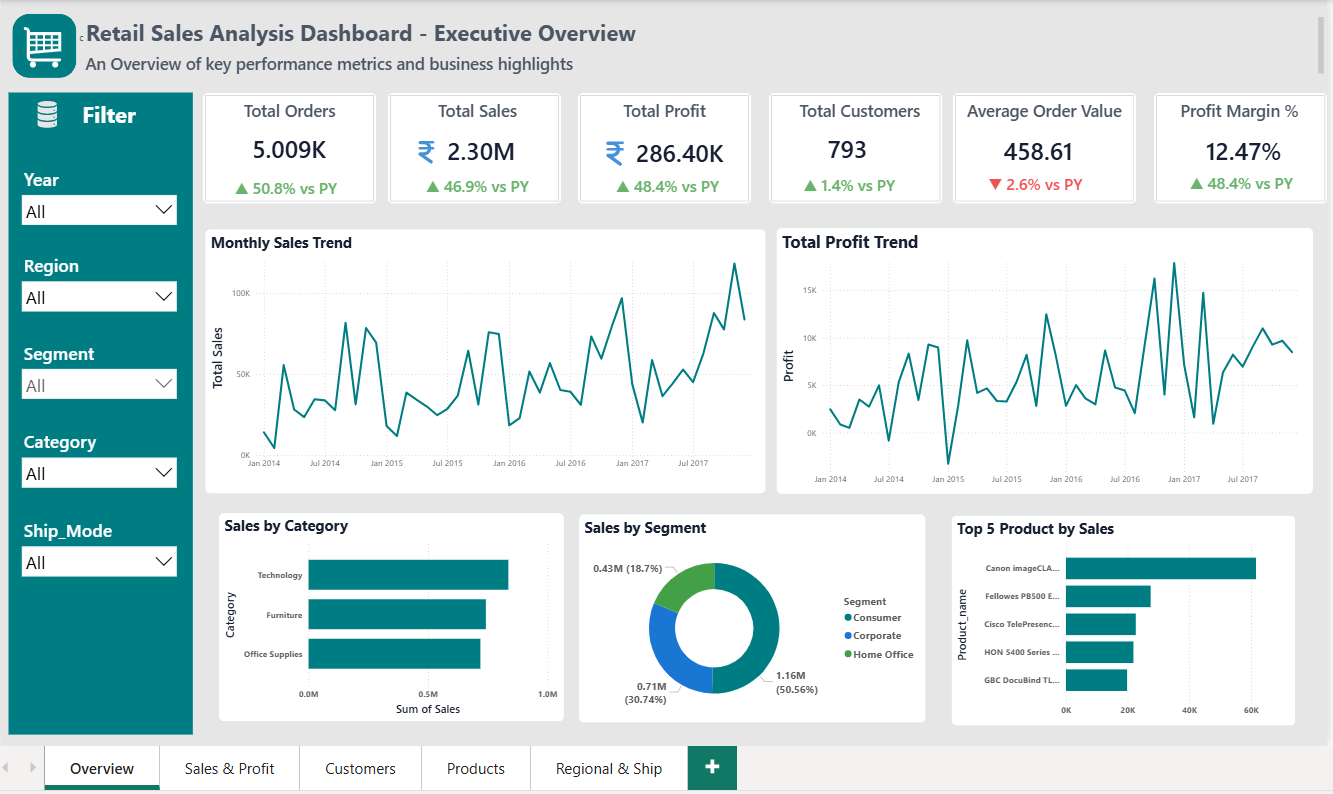

Layout of this report page (visuals, bound fields, positions):
{"tool":"powerbi","page":{"name":"Overview","canvas":[1920,1080],"ordinal":0},"visuals":[{"type":"shape","box":[10.1,133.4,266.8,929.9],"z":0},{"type":"textbox","box":[109.2,20.2,1811.3,93],"z":1000},{"type":"slicer","fields":{"Values":["Calendar.Year"]},"box":[20.2,234.5,244.6,109.2],"z":2000},{"type":"slicer","fields":{"Values":["Fact_Sales.Region"]},"box":[20.2,361.8,244.6,99.1],"z":3000},{"type":"slicer","fields":{"Values":["Fact_Sales.Segment"]},"box":[20.2,489.2,244.6,99.1],"z":4000},{"type":"slicer","fields":{"Values":["Fact_Sales.Category"]},"box":[20.2,616.6,244.6,99.1],"z":5000},{"type":"slicer","fields":{"Values":["Fact_Sales.Ship_Mode"]},"box":[20.2,745.9,244.6,111.2],"z":6000},{"type":"lineChart","title":"Total Profit Trend","fields":{"Y":["Fact_Sales.Total Profit"],"Category":["Calendar.Month Start"]},"box":[1121.9,329.5,778.3,386.1],"z":7000},{"type":"clusteredBarChart","title":"Sales by Category","fields":{"Y":["Sum(Fact_Sales.Sales)"],"Category":["Fact_Sales.Category"]},"box":[315.4,741.9,500.5,303.2],"z":8000},{"type":"donutChart","title":"Sales by Segment","fields":{"Category":["Fact_Sales.Segment"],"Y":["Sum(Fact_Sales.Sales)"]},"box":[836.9,743.1,503.3,303.2],"z":9000},{"type":"barChart","title":"Top 5 Product by Sales","fields":{"Category":["Fact_Sales.Product_name"],"Y":["Sum(Fact_Sales.Sales)"]},"box":[1375.8,745.9,499.3,305.2],"z":10000},{"type":"image","box":[40.4,141.5,54.6,48.5],"z":11000},{"type":"textbox","box":[95,139.5,121.3,74.8],"z":12000},{"type":"shape","box":[291.1,133.4,252.7,161.7],"z":13000},{"type":"cardVisual","fields":{"Data":["Fact_Sales.Total Orders"]},"box":[335.6,167.8,208.2,91],"z":14000},{"type":"cardVisual","fields":{"Data":["Fact_Sales.Orders YoY Display"]},"box":[309.3,238.5,218.3,62.7],"z":15000},{"type":"shape","box":[560,133.4,252.7,161.7],"z":16000},{"type":"shape","box":[834.9,133.4,252.7,161.7],"z":17000},{"type":"shape","box":[1667.7,133.4,252.7,161.7],"z":18000},{"type":"shape","box":[1376.6,133.4,266.8,161.7],"z":19000},{"type":"shape","box":[1111.8,133.4,252.7,161.7],"z":20000},{"type":"cardVisual","fields":{"Data":["Fact_Sales.Total Sales"]},"box":[616.6,173.8,171.8,84.9],"z":21000},{"type":"image","box":[586.2,198.1,58.6,46.5],"z":22000},{"type":"cardVisual","fields":{"Data":["Fact_Sales.Sales YoY Display"]},"box":[586.2,234.5,224.4,64.7],"z":23000},{"type":"cardVisual","fields":{"Data":["Fact_Sales.Total Profit"]},"box":[889.5,175.9,206.2,86.9],"z":24000},{"type":"cardVisual","fields":{"Data":["Fact_Sales.Profit Margin %"]},"box":[1706.1,173.8,186,84.9],"z":25000},{"type":"cardVisual","fields":{"Data":["Fact_Sales.Average Order Value"]},"box":[1423.1,177.9,177.9,76.8],"z":26000},{"type":"cardVisual","fields":{"Data":["Fact_Sales.Total Customers"]},"box":[1107.8,177.9,236.5,72.8],"z":27000},{"type":"cardVisual","fields":{"Data":["Fact_Sales.Profit YoY Display"]},"box":[861.2,232.5,224.4,72.8],"z":28000},{"type":"cardVisual","fields":{"Data":["Fact_Sales.Customers YoY Display"]},"box":[1132,222.4,224.4,86.9],"z":29000},{"type":"cardVisual","fields":{"Data":["Fact_Sales.AOV YoY Display"]},"box":[1400.9,230.4,224.4,70.8],"z":30000},{"type":"cardVisual","fields":{"Data":["Fact_Sales.Profit YoY Display"]},"box":[1692,232.5,214.3,62.7],"z":31000},{"type":"textbox","box":[1376.6,139.5,266.8,80.9],"z":32000},{"type":"textbox","box":[291.1,139.5,252.7,50.5],"z":33000},{"type":"textbox","box":[834.9,139.5,252.7,50.5],"z":34000},{"type":"textbox","box":[566,139.5,246.6,50.5],"z":35000},{"type":"textbox","box":[1121.9,139.5,242.6,58.6],"z":36000},{"type":"textbox","box":[1667.7,139.5,248.6,46.5],"z":37000},{"type":"image","box":[861.2,198.1,54.6,50.5],"z":38000},{"type":"lineChart","title":"Monthly Sales Trend","fields":{"Category":["Calendar.Month Start"],"Y":["Fact_Sales.Total Sales"]},"box":[295.1,331.5,812.6,384.1],"z":39000},{"type":"shape","box":[16.2,20.2,93,93],"z":40000},{"type":"image","box":[26.3,10.1,70.8,115.2],"z":41000}]}

Visuals, with their boxes on the page's 1920x1080 design canvas (x1, y1, x2, y2). These are canvas units, not pixel positions in the 1333x794 screenshot, which may show the page scaled, cropped or inside an application window:
shape: crop(10, 133, 277, 1063)
textbox: crop(109, 20, 1920, 113)
slicer - Calendar.Year: crop(20, 234, 265, 344)
slicer - Fact_Sales.Region: crop(20, 362, 265, 461)
slicer - Fact_Sales.Segment: crop(20, 489, 265, 588)
slicer - Fact_Sales.Category: crop(20, 617, 265, 716)
slicer - Fact_Sales.Ship_Mode: crop(20, 746, 265, 857)
"Total Profit Trend" lineChart: crop(1122, 330, 1900, 716)
"Sales by Category" clusteredBarChart: crop(315, 742, 816, 1045)
"Sales by Segment" donutChart: crop(837, 743, 1340, 1046)
"Top 5 Product by Sales" barChart: crop(1376, 746, 1875, 1051)
image: crop(40, 142, 95, 190)
textbox: crop(95, 140, 216, 214)
shape: crop(291, 133, 544, 295)
cardVisual - Fact_Sales.Total Orders: crop(336, 168, 544, 259)
cardVisual - Fact_Sales.Orders YoY Display: crop(309, 238, 528, 301)
shape: crop(560, 133, 813, 295)
shape: crop(835, 133, 1088, 295)
shape: crop(1668, 133, 1920, 295)
shape: crop(1377, 133, 1643, 295)
shape: crop(1112, 133, 1364, 295)
cardVisual - Fact_Sales.Total Sales: crop(617, 174, 788, 259)
image: crop(586, 198, 645, 245)
cardVisual - Fact_Sales.Sales YoY Display: crop(586, 234, 811, 299)
cardVisual - Fact_Sales.Total Profit: crop(890, 176, 1096, 263)
cardVisual - Fact_Sales.Profit Margin %: crop(1706, 174, 1892, 259)
cardVisual - Fact_Sales.Average Order Value: crop(1423, 178, 1601, 255)
cardVisual - Fact_Sales.Total Customers: crop(1108, 178, 1344, 251)
cardVisual - Fact_Sales.Profit YoY Display: crop(861, 232, 1086, 305)
cardVisual - Fact_Sales.Customers YoY Display: crop(1132, 222, 1356, 309)
cardVisual - Fact_Sales.AOV YoY Display: crop(1401, 230, 1625, 301)
cardVisual - Fact_Sales.Profit YoY Display: crop(1692, 232, 1906, 295)
textbox: crop(1377, 140, 1643, 220)
textbox: crop(291, 140, 544, 190)
textbox: crop(835, 140, 1088, 190)
textbox: crop(566, 140, 813, 190)
textbox: crop(1122, 140, 1364, 198)
textbox: crop(1668, 140, 1916, 186)
image: crop(861, 198, 916, 249)
"Monthly Sales Trend" lineChart: crop(295, 332, 1108, 716)
shape: crop(16, 20, 109, 113)
image: crop(26, 10, 97, 125)
